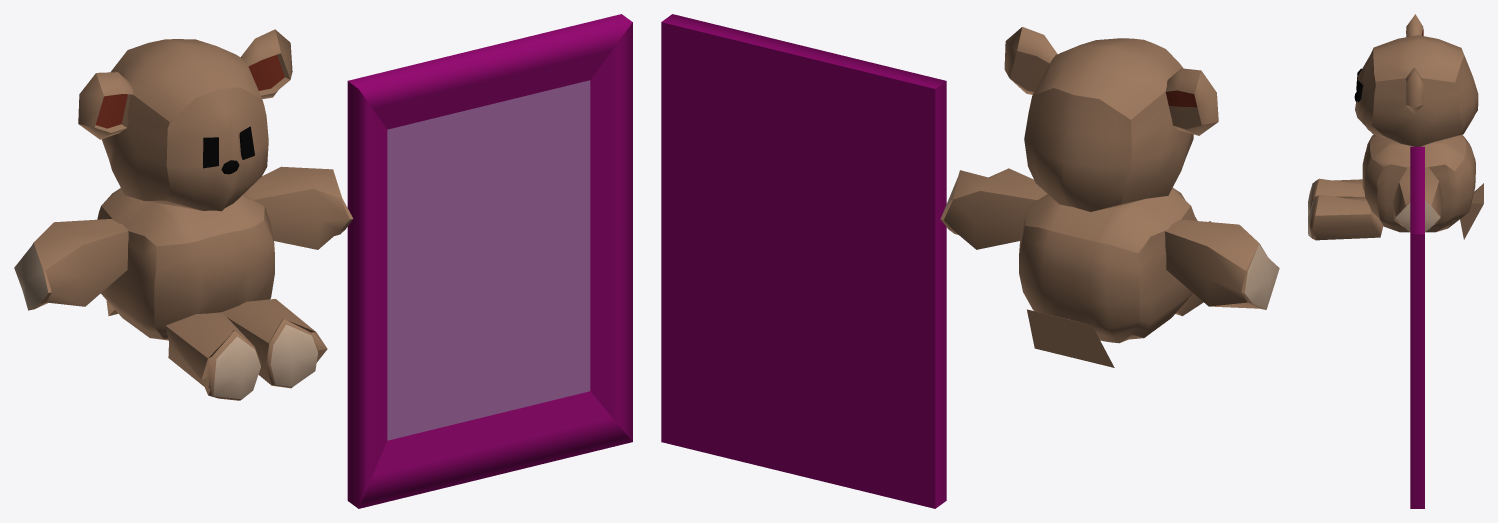
The model's file is bear.fbx.
3 renders of one model, left to right at view 1: azimuth 30°, elevation 25°; view 2: azimuth 150°, elevation 25°; view 3: azimuth 270°, elevation 25°, orthographic. The views are drawn at different scales.
Visible parts, largest first — view 1: PictureFrame, bear; view 2: PictureFrame, bear; view 3: bear, PictureFrame.
Part boxes in pixels (x1,y1,x2,y2): PictureFrame: (347,14,632,508); bear: (14,29,353,400); PictureFrame: (661,14,946,508); bear: (940,27,1279,367); bear: (1308,14,1483,240); PictureFrame: (1410,146,1424,508).
Bounding box in the file's own units: 66.15 × 52.58 × 25.6.
